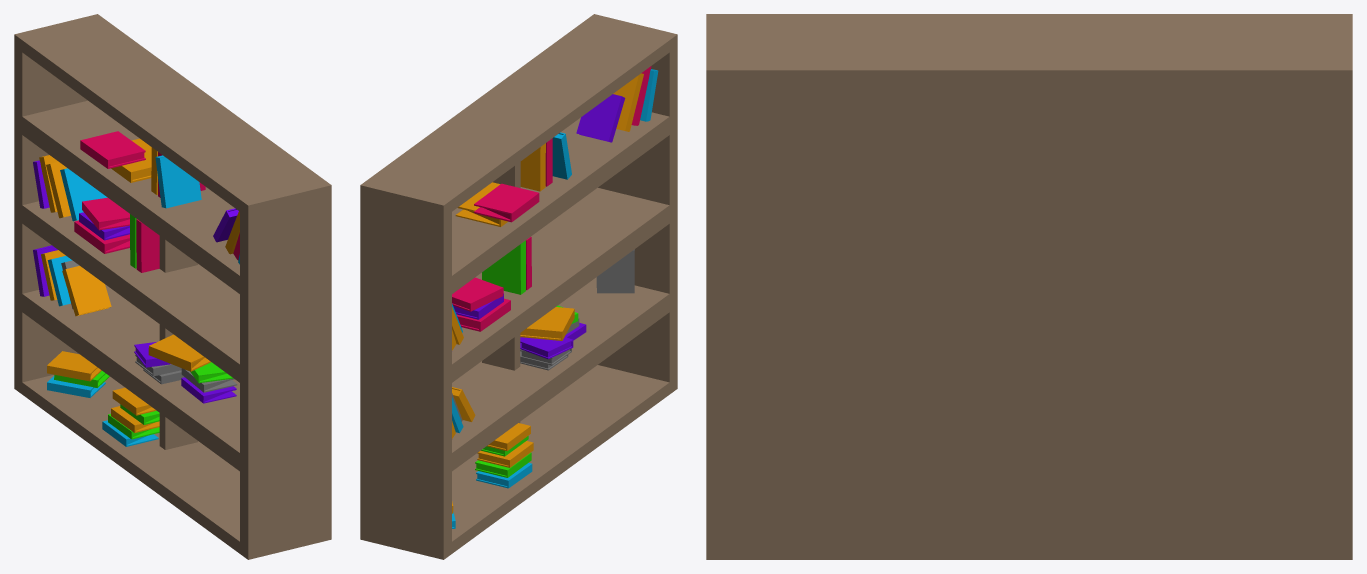
The model's file is Bookshelf.fbx.
3 renders of one model, left to right at view 1: azimuth 30°, elevation 25°; view 2: azimuth 150°, elevation 25°; view 3: azimuth 270°, elevation 25°, orthographic. The views are drawn at different scales.
Visible parts, largest first — view 1: Bookshelf; view 2: Bookshelf; view 3: Bookshelf.
Boxes of the visible parts, x1=… form: Bookshelf: x1=14, y1=14, x2=331, y2=559; Bookshelf: x1=360, y1=14, x2=677, y2=559; Bookshelf: x1=706, y1=14, x2=1352, y2=559.
Size of the model in its own units: 51.8 by 208 by 248.
